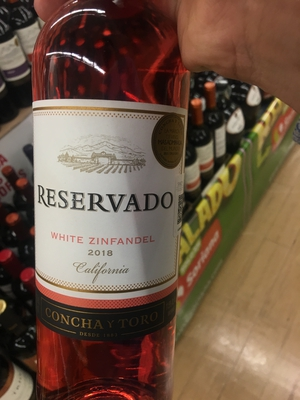reservado white zinfandel: (33, 17, 200, 400)
